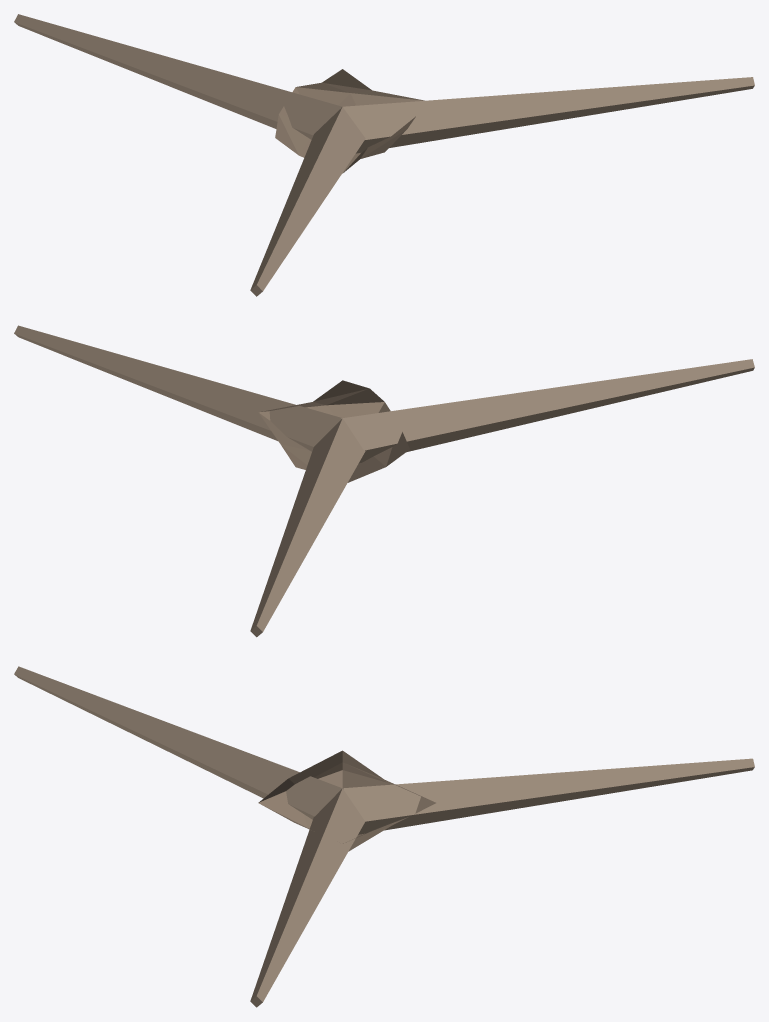
3 renders of one model, top to bottom at view 1: azimuth 30°, elevation 25°; view 2: azimuth 150°, elevation 25°; view 3: azimuth 270°, elevation 25°, orthographic.
Parts seen in each view (by area): view 1: lod0; view 2: lod0; view 3: lod0.
Boxes of the visible parts, <box> form: lod0: <box>14,14,754,296</box>; lod0: <box>14,325,754,637</box>; lod0: <box>14,666,754,1007</box>.
Size of what is drawn, in the model's own units: 1.33 by 0.2138 by 1.37.
